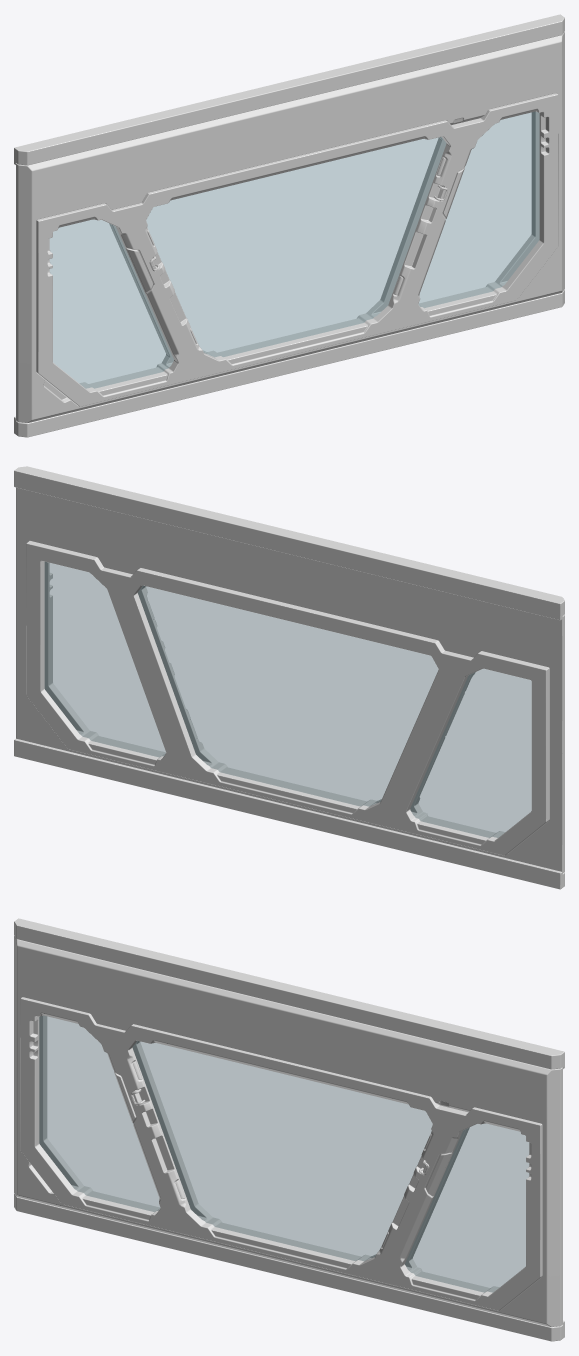
Rendered from WindowA8x4.glb.
3 views of the same model, one above another, from view 1: azimuth 30°, elevation 25°; view 2: azimuth 150°, elevation 25°; view 3: azimuth 330°, elevation 25° (orthographic).
Parts seen in each view (by area): view 1: WindowA8x4; view 2: WindowA8x4; view 3: WindowA8x4.
Part boxes in pixels (<box>): WindowA8x4: <box>14,14,564,437</box>; WindowA8x4: <box>14,466,564,889</box>; WindowA8x4: <box>14,918,564,1341</box>.
Size of what is drawn, in the model's own units: 8 by 4 by 0.3379.
